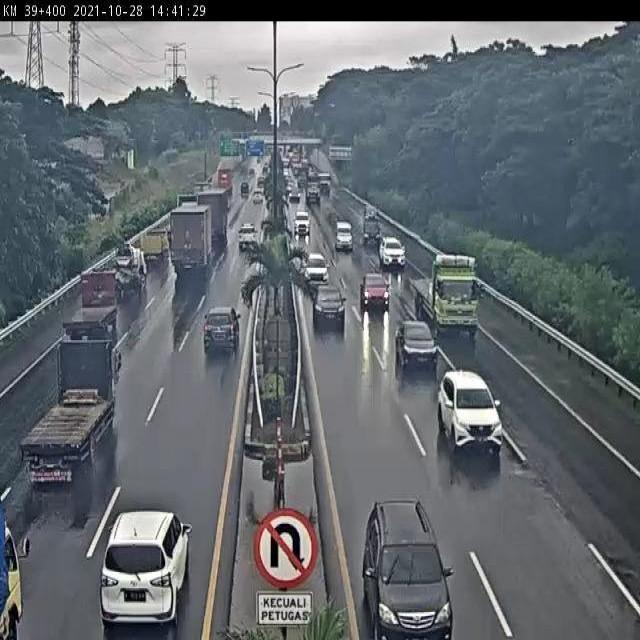car: (361, 498, 454, 640), (98, 509, 192, 624), (437, 368, 503, 451), (394, 320, 439, 372), (203, 306, 240, 354), (311, 286, 345, 330), (357, 268, 387, 305), (378, 238, 406, 270), (303, 253, 329, 287), (237, 223, 257, 248)
mid truck: (168, 205, 213, 271)
small truck: (141, 228, 169, 260)
truck-l-: (408, 247, 483, 329)
truck-m-: (19, 338, 119, 486), (62, 269, 121, 343), (113, 241, 147, 299)
